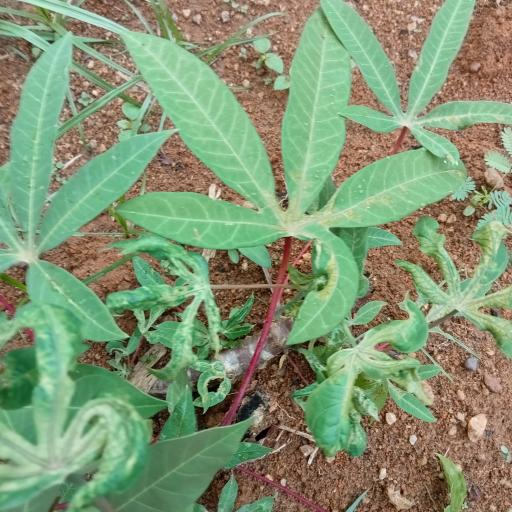Cassava_Mosaic: (120, 10, 459, 340), (0, 303, 149, 512), (325, 1, 512, 155), (303, 296, 438, 460)
